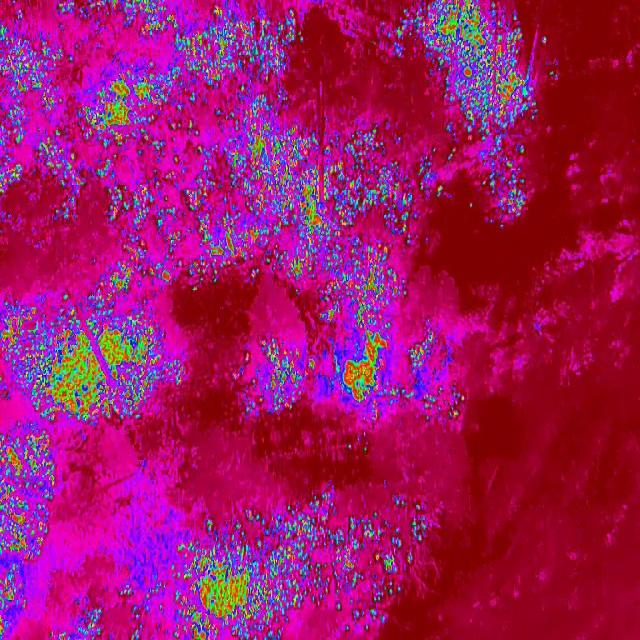fire: (95, 85, 450, 294), (172, 502, 442, 640), (5, 290, 184, 424), (387, 0, 550, 130), (175, 0, 310, 85), (0, 115, 81, 226), (78, 62, 175, 142), (0, 428, 52, 566), (319, 239, 401, 326), (402, 321, 469, 427), (334, 329, 400, 423), (244, 332, 314, 417), (468, 130, 528, 226), (0, 25, 62, 116), (54, 0, 180, 34), (56, 609, 142, 640), (91, 262, 138, 318), (0, 565, 31, 640), (343, 440, 371, 458)
